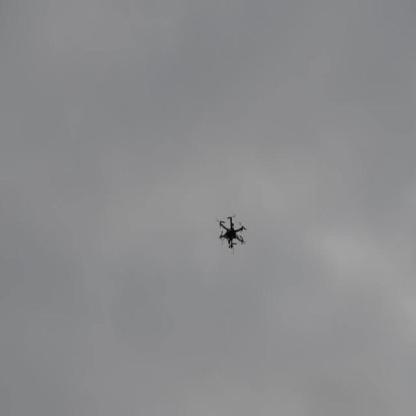drone: (212, 211, 248, 255)
